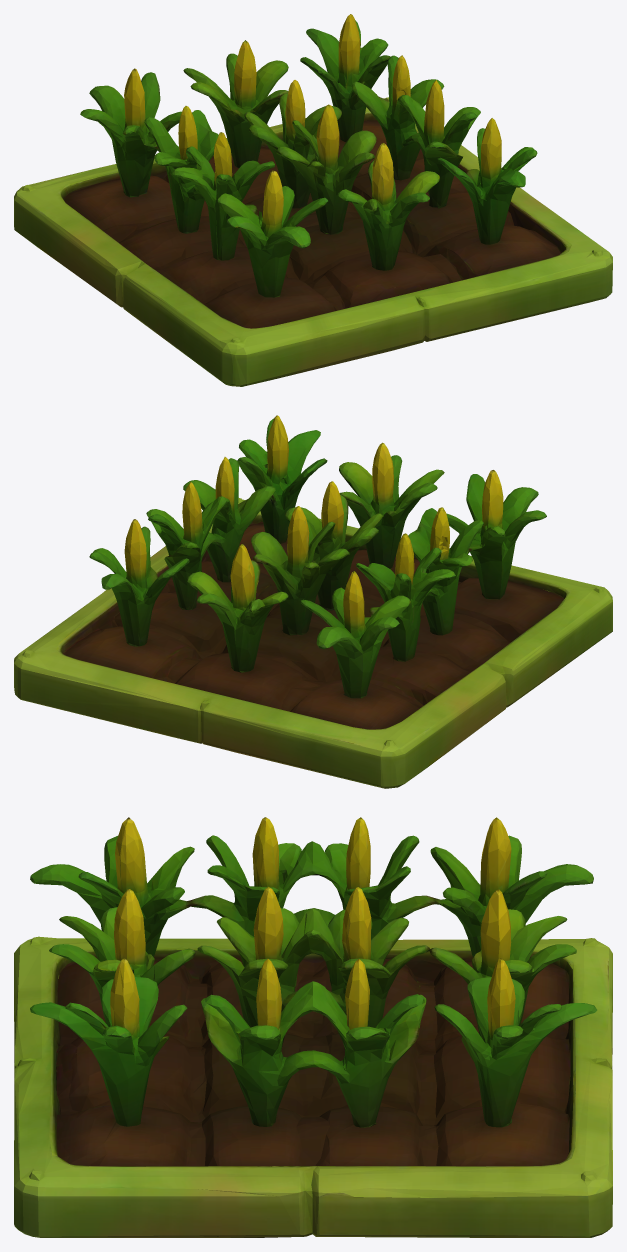
Rendered from corn.glb.
The picture shows the model from 3 angles, top to bottom: view 1: azimuth 30°, elevation 25°; view 2: azimuth 150°, elevation 25°; view 3: azimuth 270°, elevation 25°; orthographic projection. The views are drawn at different scales.
Parts seen in each view (by area): view 1: geometry_0; view 2: geometry_0; view 3: geometry_0.
Boxes of the visible parts, <box> form: geometry_0: <box>14,14,612,386</box>; geometry_0: <box>14,415,612,788</box>; geometry_0: <box>14,817,612,1237</box>.
Size of the model in its own units: 0.9998 by 0.4207 by 1.
1 material, 1 textured.
